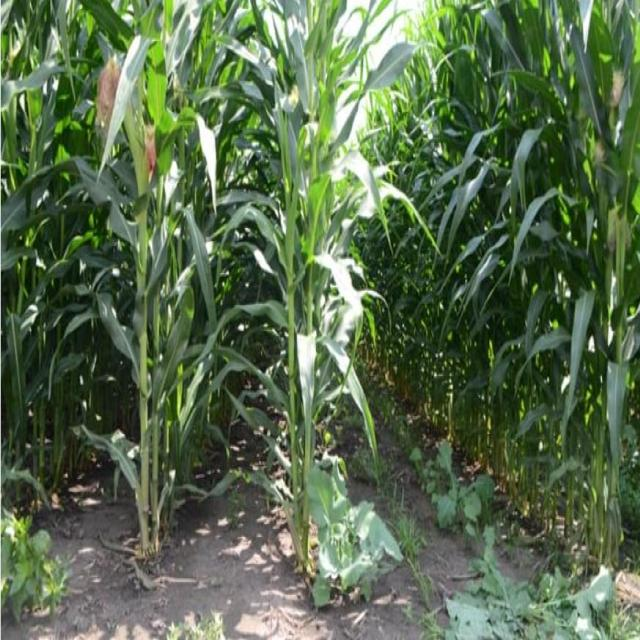row: (331, 363, 591, 574), (167, 343, 287, 561), (12, 394, 138, 557)
